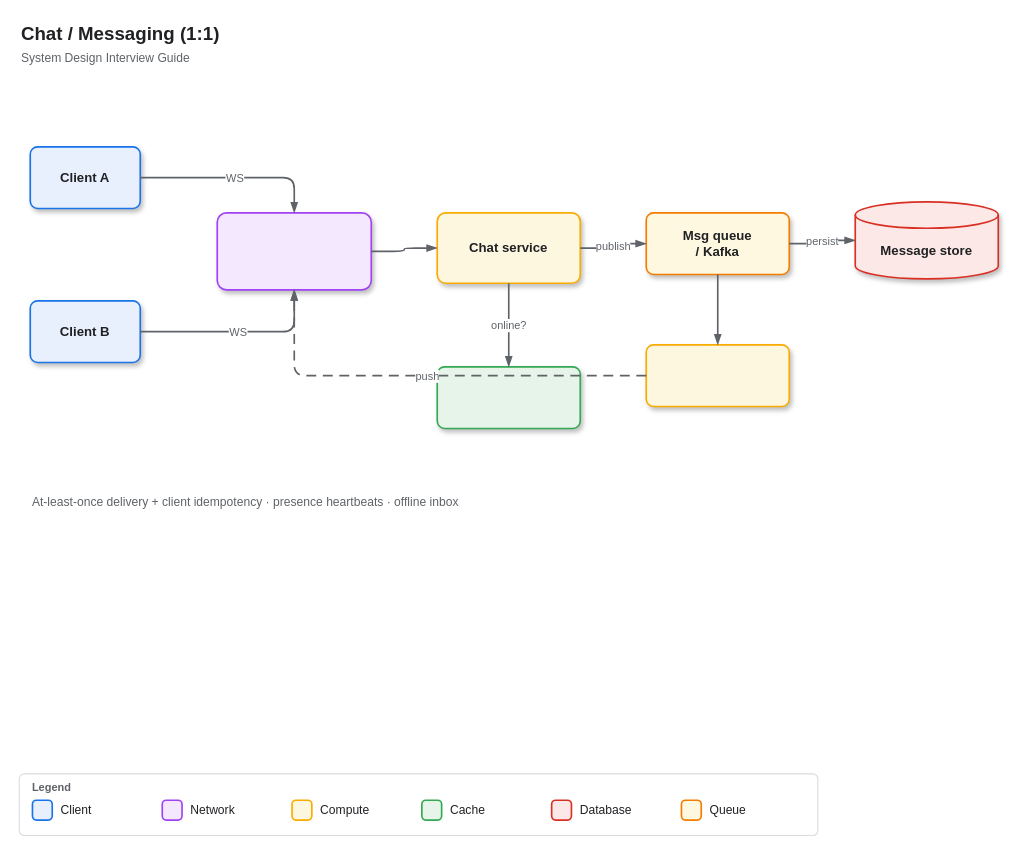
Image size: 1025x855. Some labels were removed from this diagram. Here are the shapes that lost their labels. From the top down, the centre of each, then its label:
At point (295, 252): "WS Gateway (conn mgmt)".
At point (718, 376): "Fan-out / delivery".
At point (509, 398): "Presence (Redis)".
